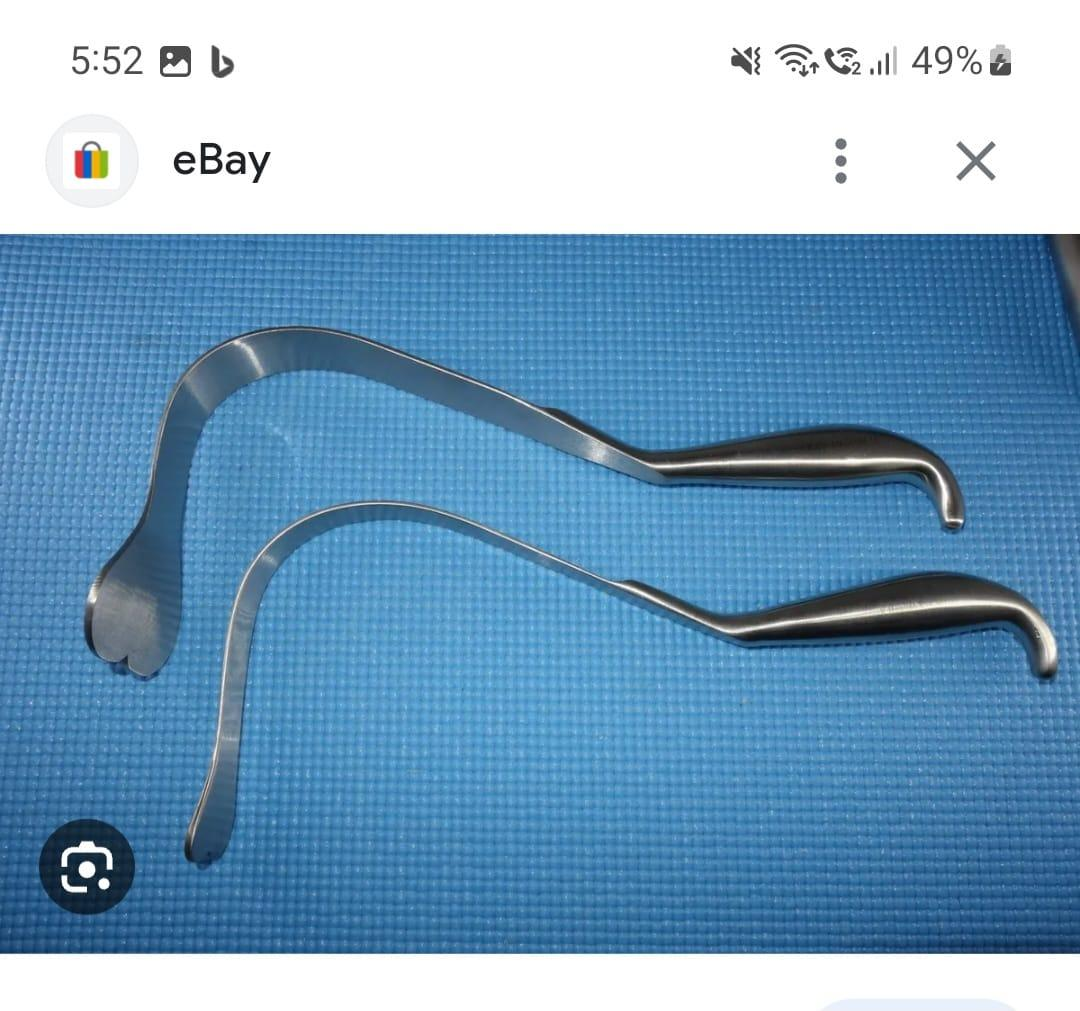Harrington Retractor: (67, 317, 977, 697)
